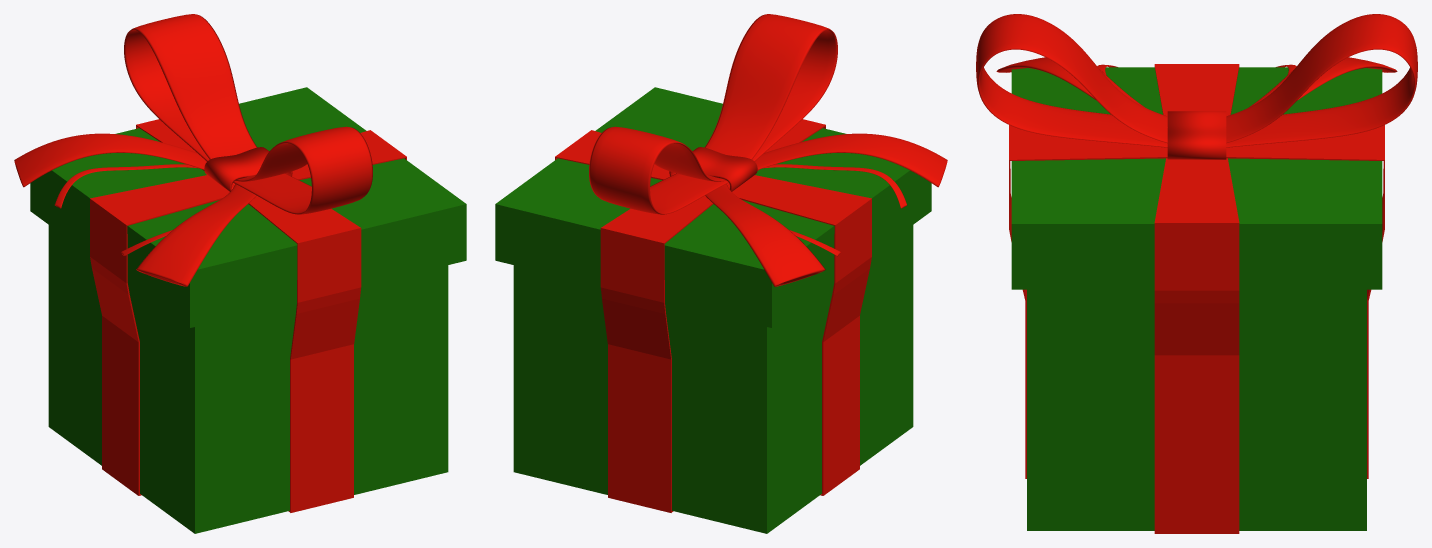
File: box_green.fbx
3 renders of one model, left to right at view 1: azimuth 30°, elevation 25°; view 2: azimuth 150°, elevation 25°; view 3: azimuth 270°, elevation 25°, orthographic. The views are drawn at different scales.
Parts seen in each view (by area): view 1: Plane.019, Cube.019, Cube.020; view 2: Plane.019, Cube.019, Cube.020; view 3: Plane.019, Cube.019, Cube.020.
Boxes of the visible parts, <box> form: Plane.019: <box>14,14,406,512</box>; Cube.019: <box>48,225,448,533</box>; Cube.020: <box>30,87,466,327</box>; Plane.019: <box>555,14,947,512</box>; Cube.019: <box>513,225,913,533</box>; Cube.020: <box>495,87,931,327</box>; Plane.019: <box>976,14,1417,533</box>; Cube.019: <box>1027,289,1366,530</box>; Cube.020: <box>1011,67,1382,289</box>.
Size of the model in its own units: 244 by 281 by 260.
